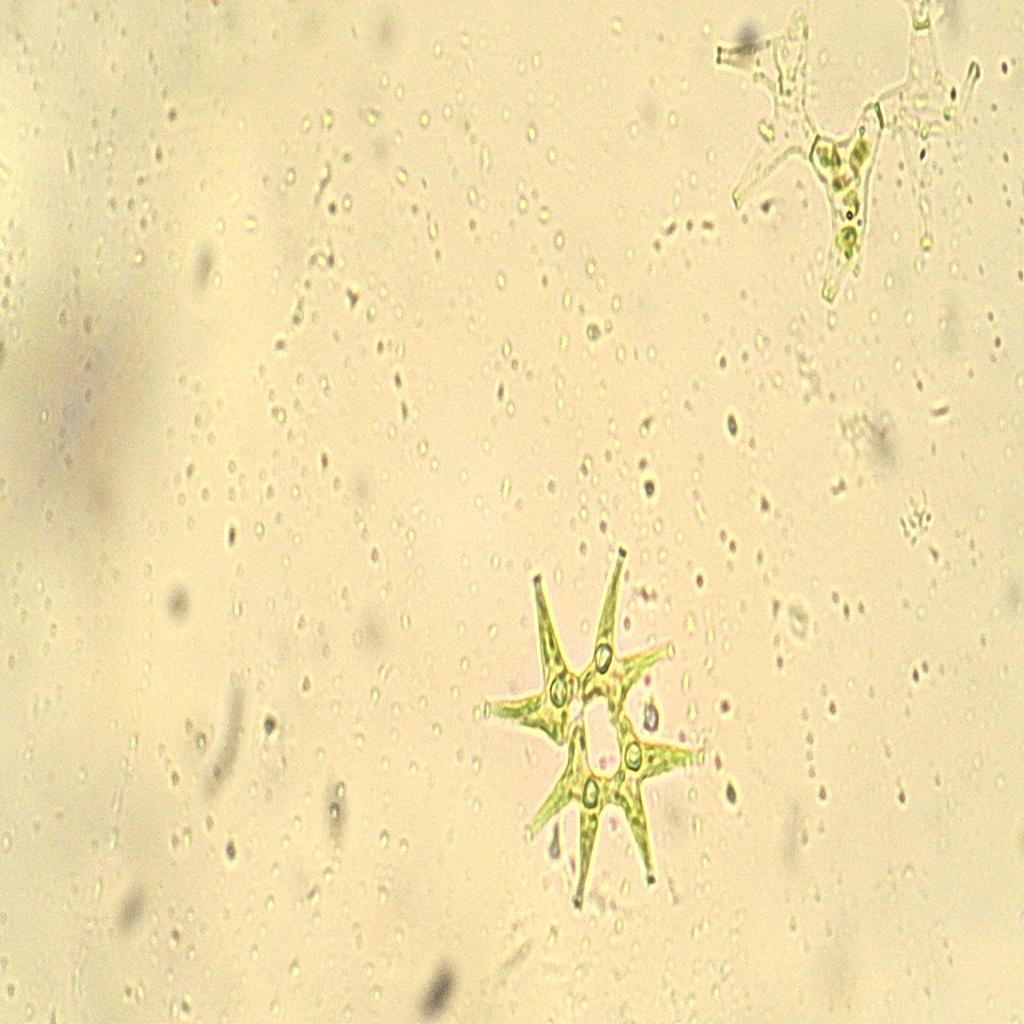Pediastrum_75FO: (480, 535, 710, 921)
